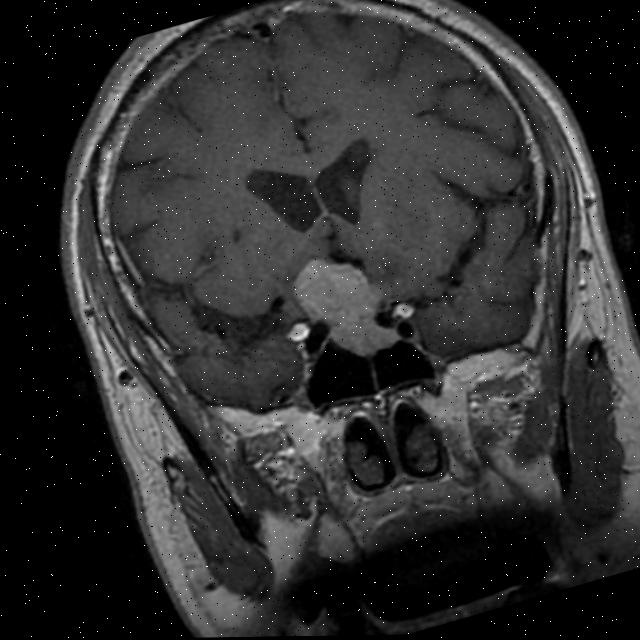Pituitary: (284, 241, 406, 371)
